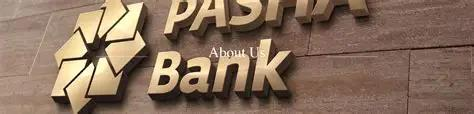Pasha Bank: (48, 1, 151, 112)
